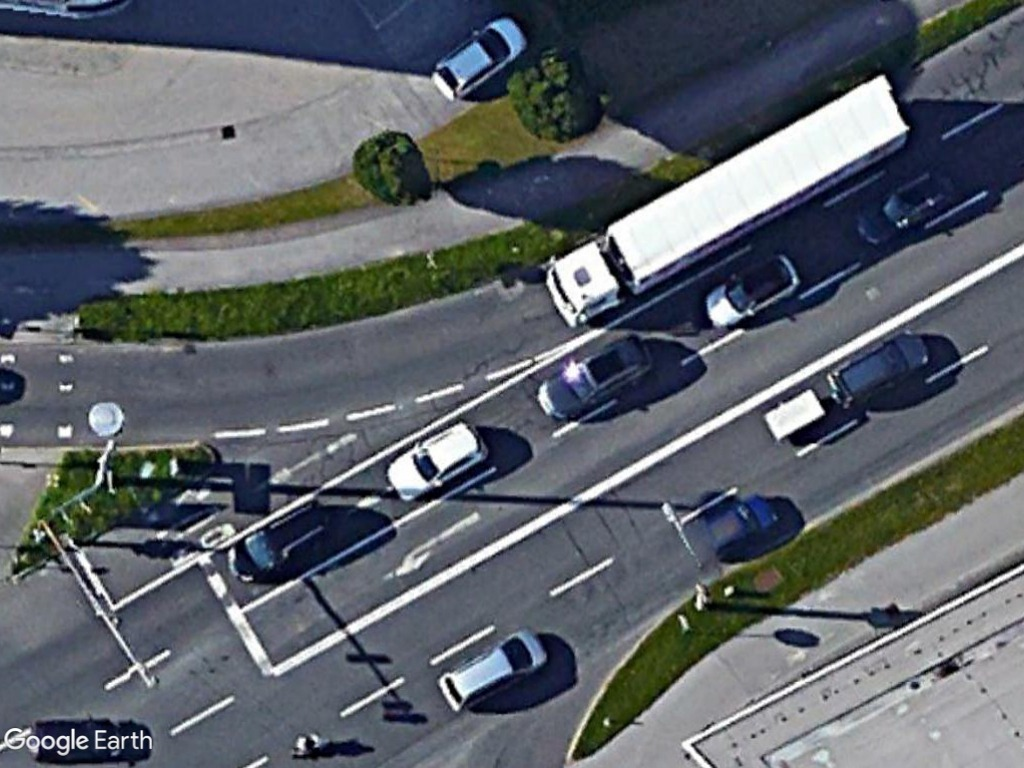car: (531, 331, 656, 427), (435, 624, 555, 715), (222, 492, 334, 589), (380, 419, 489, 506), (822, 326, 932, 412), (852, 164, 964, 248), (430, 14, 530, 107), (699, 253, 803, 332)
longvehicle: (540, 65, 918, 331)
